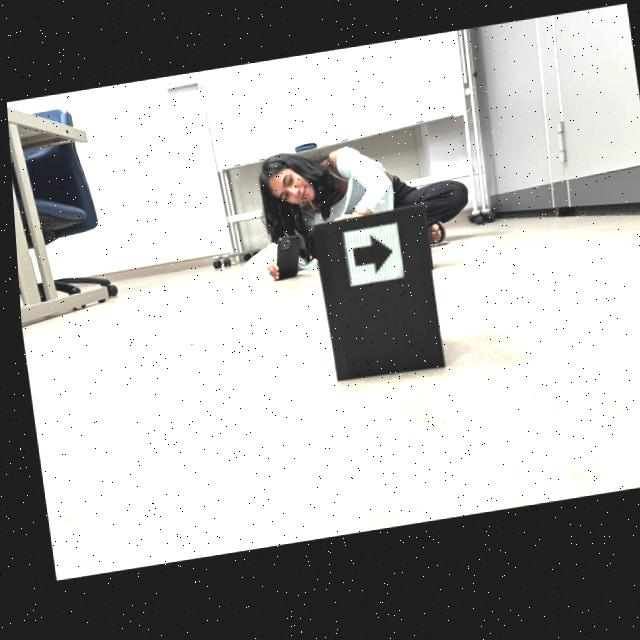RIGHT: (349, 243, 387, 278)
